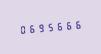five: (44, 20, 52, 33)
nine: (35, 21, 43, 34)
six: (62, 18, 70, 32), (26, 22, 34, 35), (53, 19, 61, 32), (71, 18, 79, 31)
zero: (17, 22, 25, 36)
